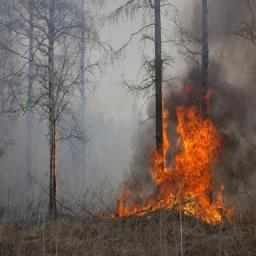Low smoke: (63, 18, 117, 216), (0, 2, 46, 221), (182, 1, 254, 97), (222, 98, 255, 206)
Medium fire: (118, 84, 245, 226)
Small fire: (50, 116, 56, 200)
